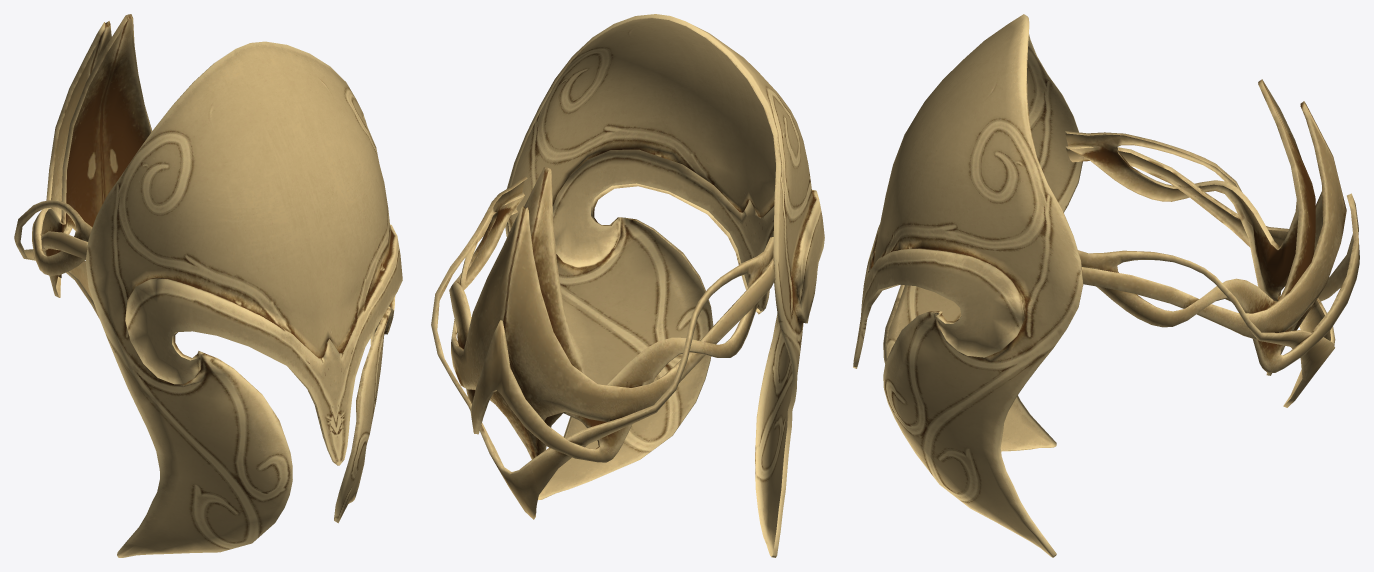
Rendered from rivendell_helmet_lord_circletmask.fbx.
3 views of the same model, side by side, from view 1: azimuth 30°, elevation 25°; view 2: azimuth 150°, elevation 25°; view 3: azimuth 270°, elevation 25° (orthographic). The views are drawn at different scales.
Visible parts, largest first — view 1: rivendell_helmet_lord_circletmask.1, rivendell_helmet_lord_circletmask.0; view 2: rivendell_helmet_lord_circletmask.1, rivendell_helmet_lord_circletmask.0; view 3: rivendell_helmet_lord_circletmask.1, rivendell_helmet_lord_circletmask.0.
Part boxes in pixels (x1,y1,x2,y2): rivendell_helmet_lord_circletmask.1: (85,41,402,557); rivendell_helmet_lord_circletmask.0: (14,14,152,318); rivendell_helmet_lord_circletmask.1: (505,14,824,557); rivendell_helmet_lord_circletmask.0: (431,167,775,519); rivendell_helmet_lord_circletmask.1: (853,14,1083,557); rivendell_helmet_lord_circletmask.0: (1065,79,1359,407).
Bounding box in the file's own units: 0.1767 × 0.2903 × 0.3038.
Materials: 2 (2 with a texture image).
